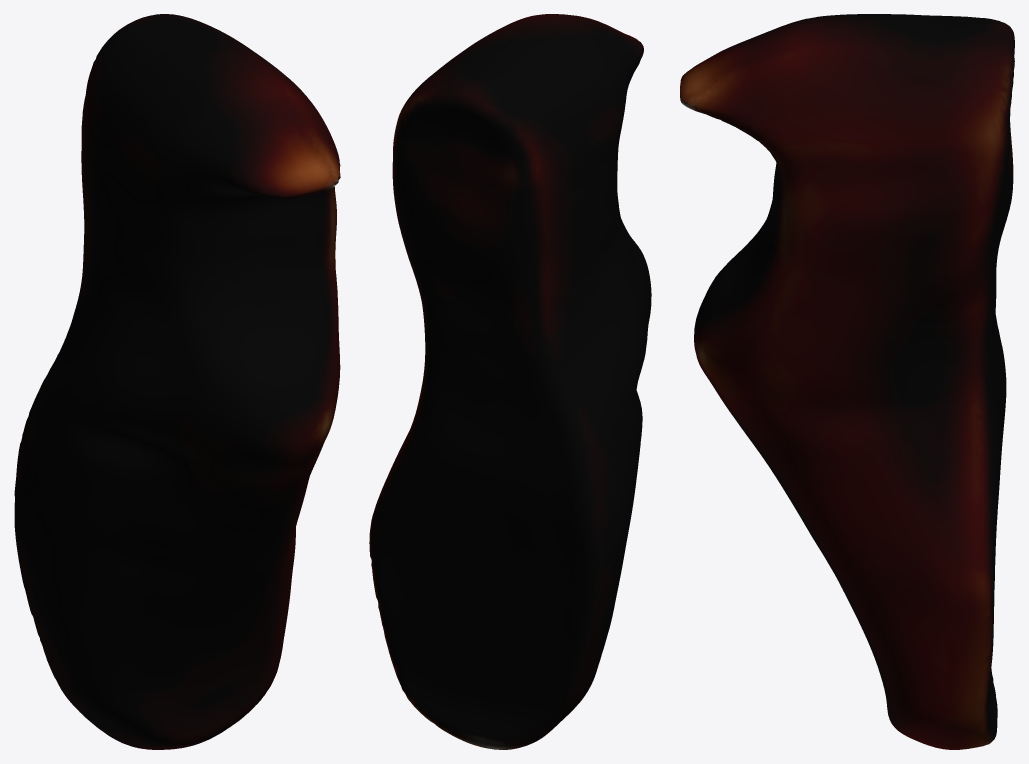
Rendered from shoe3.glb.
3 renders of one model, left to right at view 1: azimuth 30°, elevation 25°; view 2: azimuth 150°, elevation 25°; view 3: azimuth 270°, elevation 25°, orthographic. The views are drawn at different scales.
Bounding box in the file's own units: 0.3736 × 0.9997 × 0.4199.
